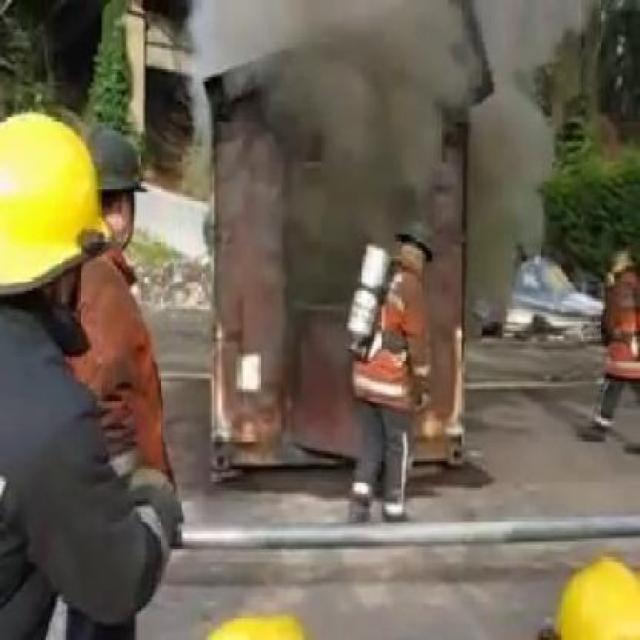smoke: (272, 16, 478, 184), (474, 210, 534, 302), (494, 93, 548, 187)
